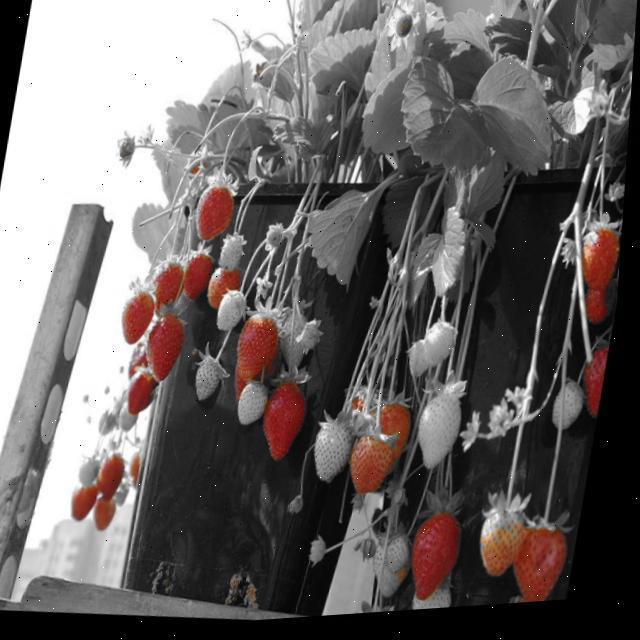ripe: (356, 400, 423, 506), (412, 508, 477, 613), (516, 523, 582, 611), (262, 382, 318, 470), (236, 314, 288, 391), (138, 317, 194, 388), (192, 180, 248, 248), (582, 228, 626, 298), (147, 260, 196, 322), (579, 348, 615, 430), (119, 288, 164, 350), (578, 284, 622, 340), (183, 247, 220, 306), (99, 449, 137, 504), (126, 371, 168, 420), (208, 266, 248, 314), (73, 484, 105, 530), (130, 343, 160, 382)
unripe: (417, 395, 473, 483), (310, 416, 364, 496), (374, 545, 419, 611), (557, 384, 592, 446), (426, 324, 467, 376), (238, 381, 276, 435), (196, 357, 234, 409), (217, 289, 256, 339), (408, 342, 439, 390), (391, 542, 422, 582), (418, 594, 464, 616), (83, 457, 108, 492)
